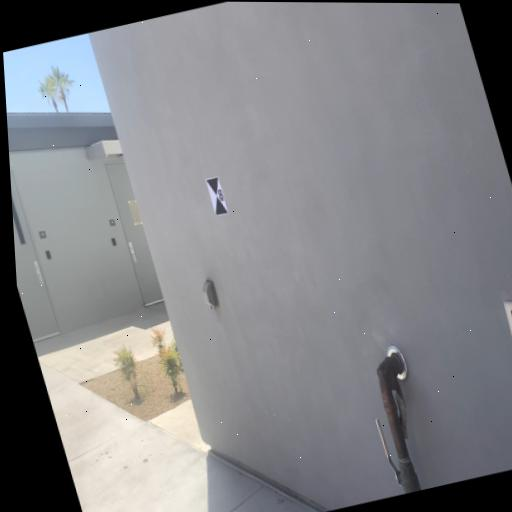target8: (205, 175, 231, 218)
